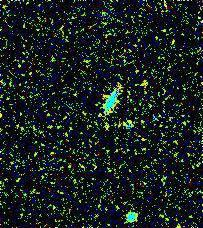star: (132, 67, 162, 97)
